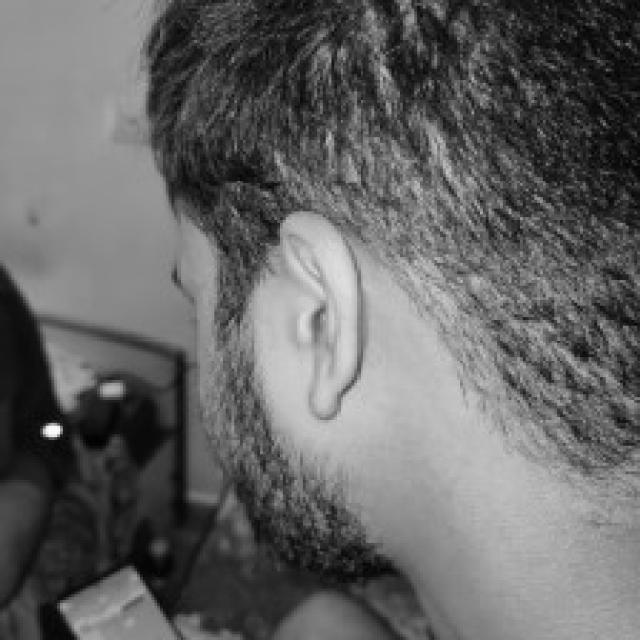ear: (280, 211, 357, 417)
